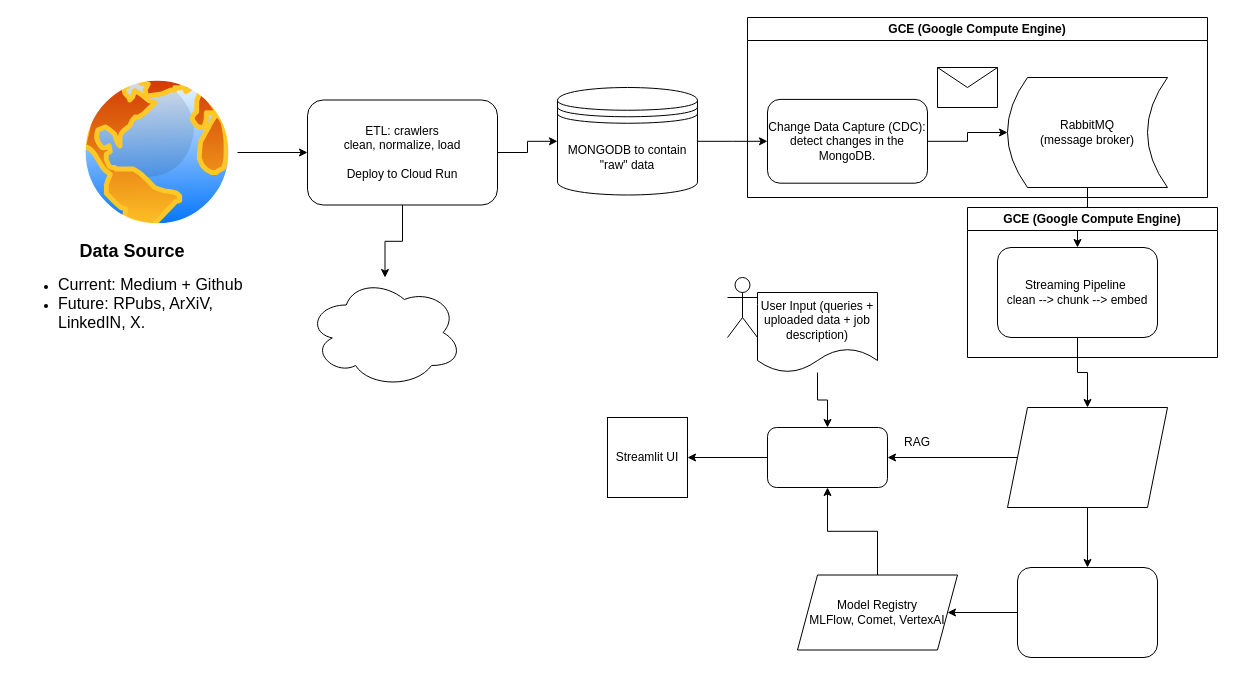
Some shapes in this 1235 by 675 pixel diagram are drawn without their labels. The shapes that lost their labels are listed below. From the top down, each one's centre as x and y in pixels, then its label:
At point 742,307: "Actor".
At point 384,332: "Cloud RUN".
At point 827,457: "Inference with Gemini API (Google AI)".
At point 1087,457: "Feature Store (Vector DB) QDrant 1. Vector (indexed) Data 2. Cleaned Data".
At point 1087,612: "Training (Fine-tuning): QLoRA".
